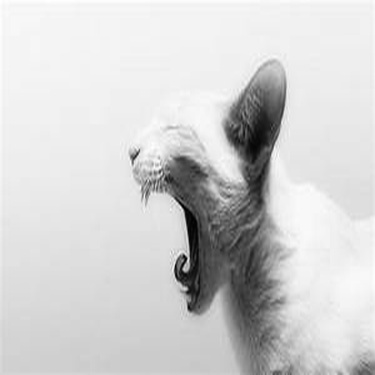cat: (123, 50, 351, 369)
